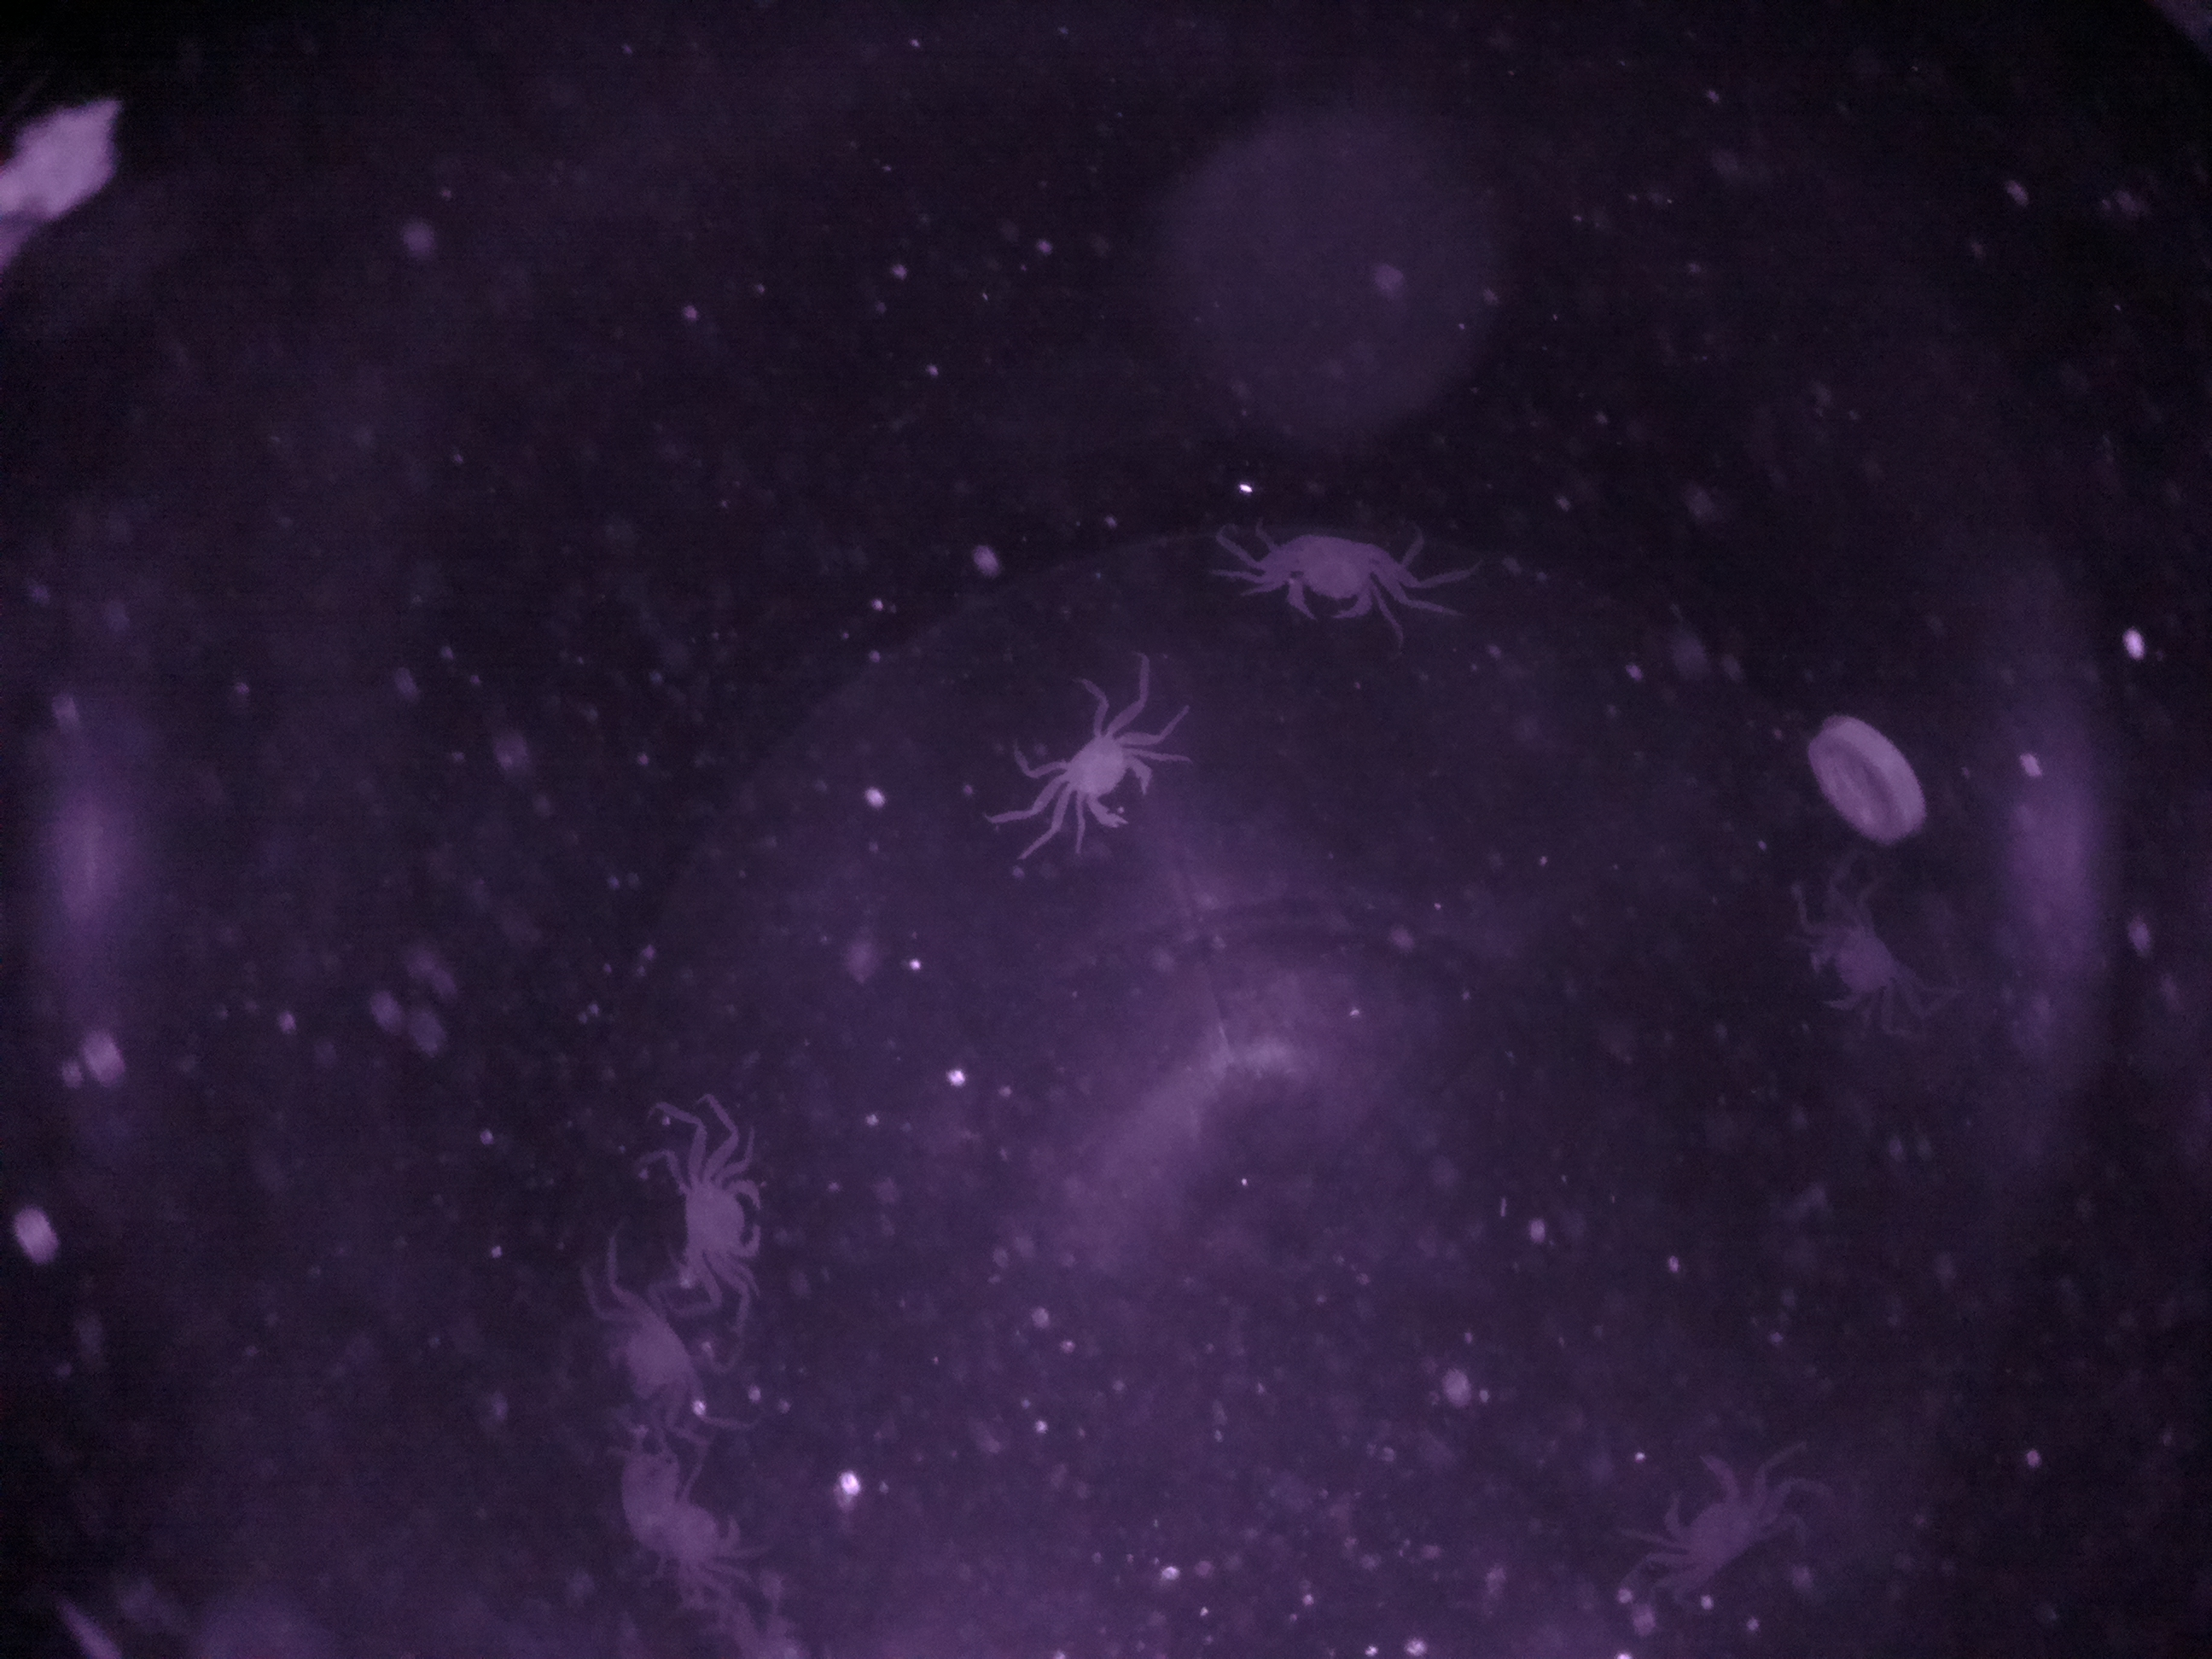Crab: (1639, 1443, 1775, 1600), (1244, 518, 1407, 638), (662, 1152, 772, 1293), (1057, 714, 1160, 849)
